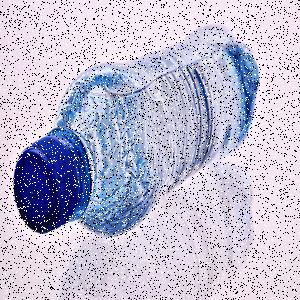Plastic-bottle: (14, 24, 262, 239)
